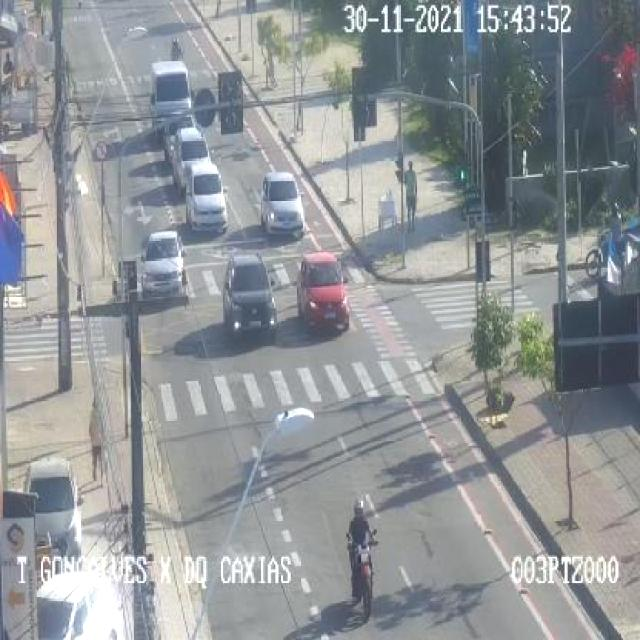Car: (24, 459, 83, 561), (36, 572, 121, 638), (220, 253, 278, 341), (296, 252, 349, 334), (166, 126, 216, 192), (183, 165, 229, 232), (258, 171, 304, 237), (140, 231, 186, 297)
